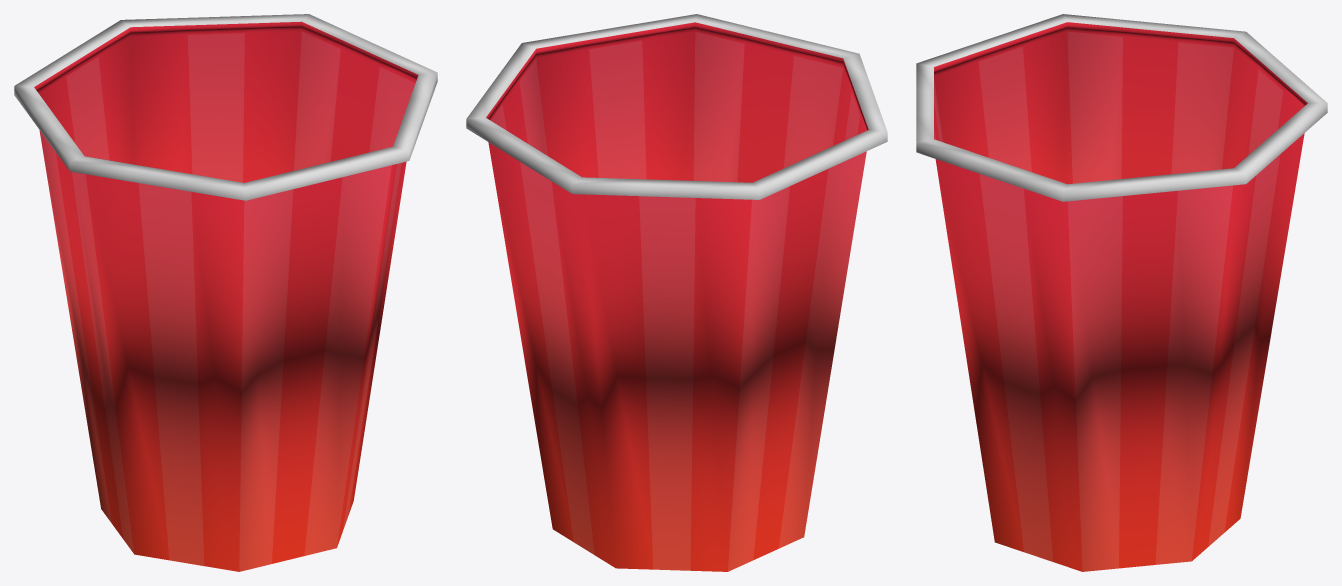
Rendered from cup red.fbx.
The picture shows the model from 3 angles, left to right: view 1: azimuth 30°, elevation 25°; view 2: azimuth 150°, elevation 25°; view 3: azimuth 270°, elevation 25°; orthographic projection.
Visible parts, largest first — view 1: Circle.028; view 2: Circle.028; view 3: Circle.028.
Part boxes in pixels (bbox=[...]): Circle.028: bbox=[14, 14, 437, 571]; Circle.028: bbox=[466, 14, 887, 571]; Circle.028: bbox=[916, 14, 1327, 571].
Size of the model in its own units: 16.11 by 17.49 by 15.7.
